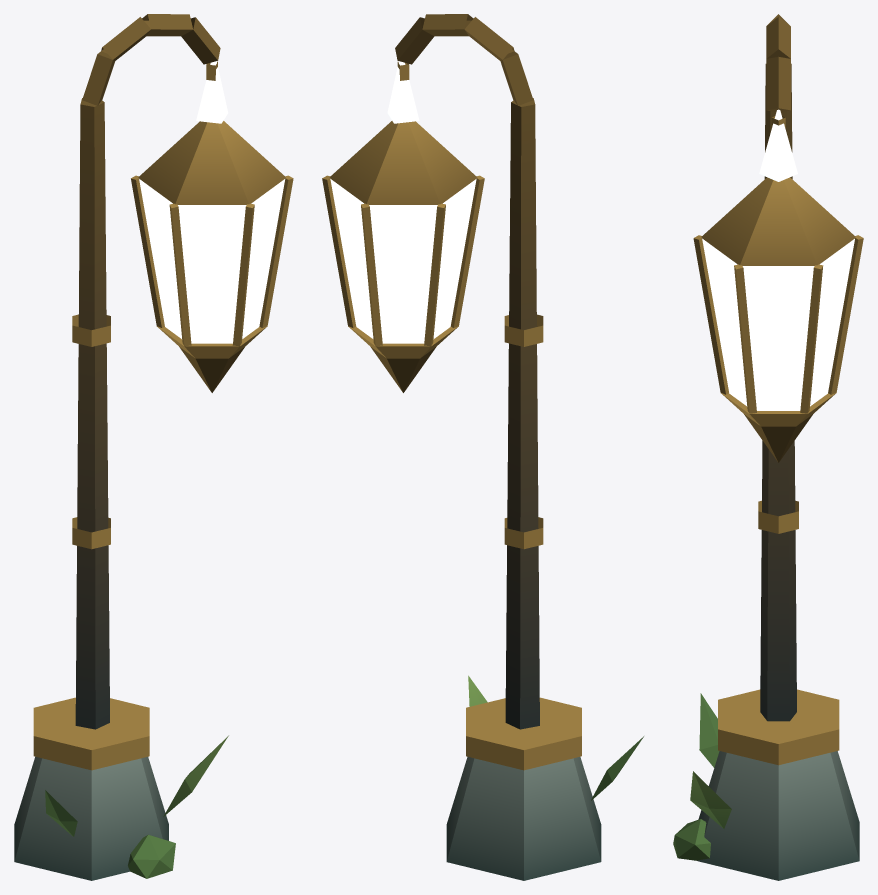
File: hanging-lantern.glb
The picture shows the model from 3 angles, left to right: view 1: azimuth 30°, elevation 25°; view 2: azimuth 150°, elevation 25°; view 3: azimuth 270°, elevation 25°; orthographic projection. The views are drawn at different scales.
Visible parts, largest first — view 1: gg_hanging_lantern; view 2: gg_hanging_lantern; view 3: gg_hanging_lantern.
Part boxes in pixels (x1,y1,x2,y2): gg_hanging_lantern: (14,14,293,880); gg_hanging_lantern: (322,14,643,880); gg_hanging_lantern: (673,14,863,880).
Bounding box in the file's own units: 0.8235 × 2.42 × 0.4898.
